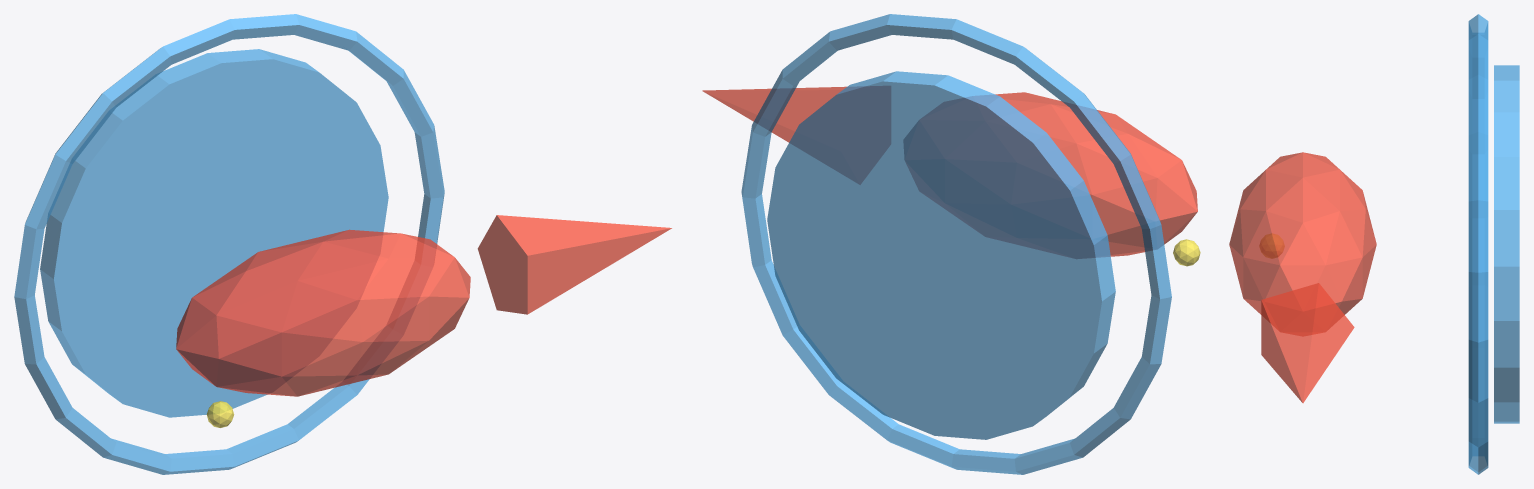
Rendered from 11_crab_critter.glb.
3 renders of one model, left to right at view 1: azimuth 30°, elevation 25°; view 2: azimuth 150°, elevation 25°; view 3: azimuth 270°, elevation 25°, orthographic. The views are drawn at different scales.
Visible parts, largest first — view 1: base_disc, body, base_ring, tail; view 2: base_disc, body, base_ring, tail, eye; view 3: body, base_ring, base_disc, tail, eye.
Boxes of the visible parts, bbox=[...] form: base_disc: bbox=[40, 49, 388, 417]; body: bbox=[176, 229, 470, 396]; base_ring: bbox=[14, 14, 444, 474]; tail: bbox=[477, 215, 671, 314]; base_disc: bbox=[767, 71, 1115, 439]; body: bbox=[904, 92, 1197, 258]; base_ring: bbox=[741, 14, 1171, 474]; tail: bbox=[702, 86, 890, 184]; eye: bbox=[1173, 239, 1200, 266]; body: bbox=[1229, 152, 1376, 335]; base_ring: bbox=[1468, 14, 1488, 474]; base_disc: bbox=[1494, 65, 1519, 423]; tail: bbox=[1261, 283, 1354, 403]; eye: bbox=[1260, 234, 1284, 257].
Bounding box in the file's own units: 1.18 × 0.9 × 0.563.
